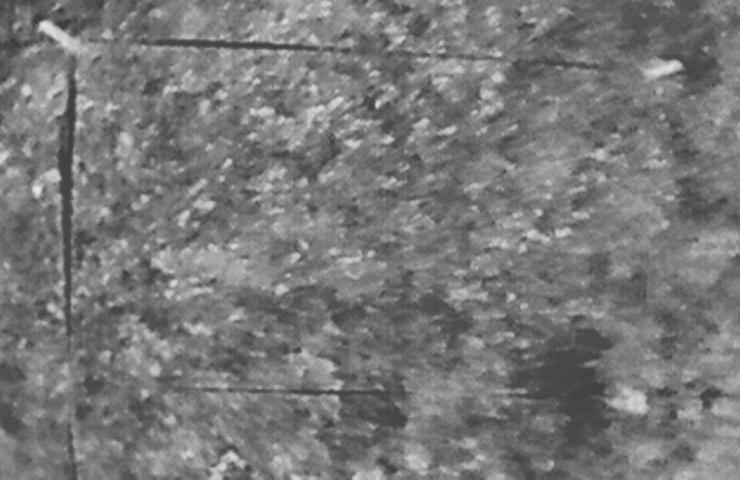landmines: (341, 256, 370, 282)
